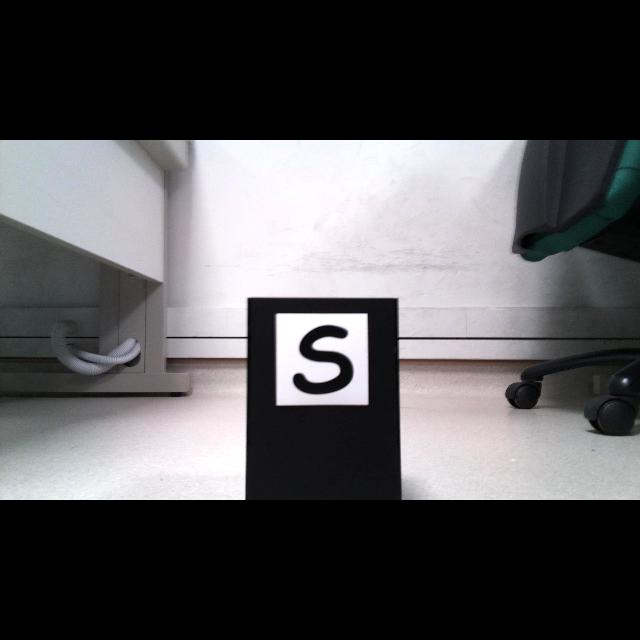S: (291, 324, 355, 395)
